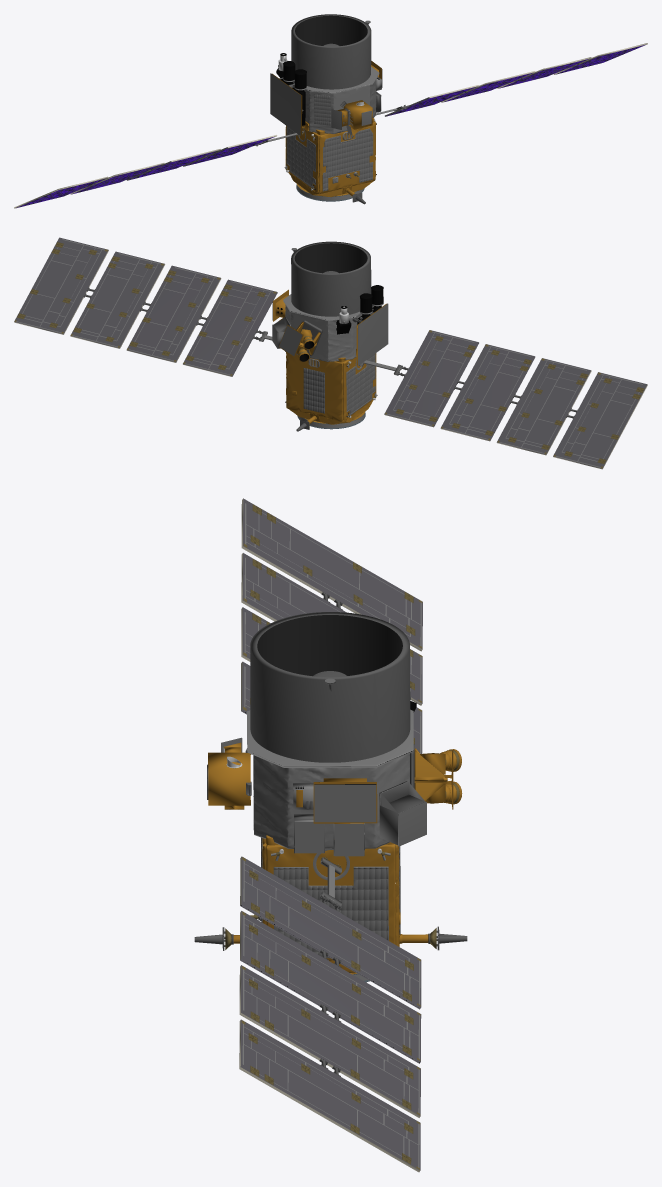
Rendered from CALIPSO.FBX.
3 views of the same model, one above another, from view 1: azimuth 30°, elevation 25°; view 2: azimuth 150°, elevation 25°; view 3: azimuth 270°, elevation 25° (orthographic). The views are drawn at different scales.
Parts seen in each view (by area): view 1: Mesh (×17); view 2: Mesh (×13); view 3: Mesh (×11).
Boxes of the visible parts, bbox=[...] form: Mesh (×17): bbox=[14, 14, 647, 208]; Mesh (×13): bbox=[14, 237, 647, 469]; Mesh (×11): bbox=[194, 498, 467, 1172].
Size of the model in its own units: 3751 by 954 by 752.
